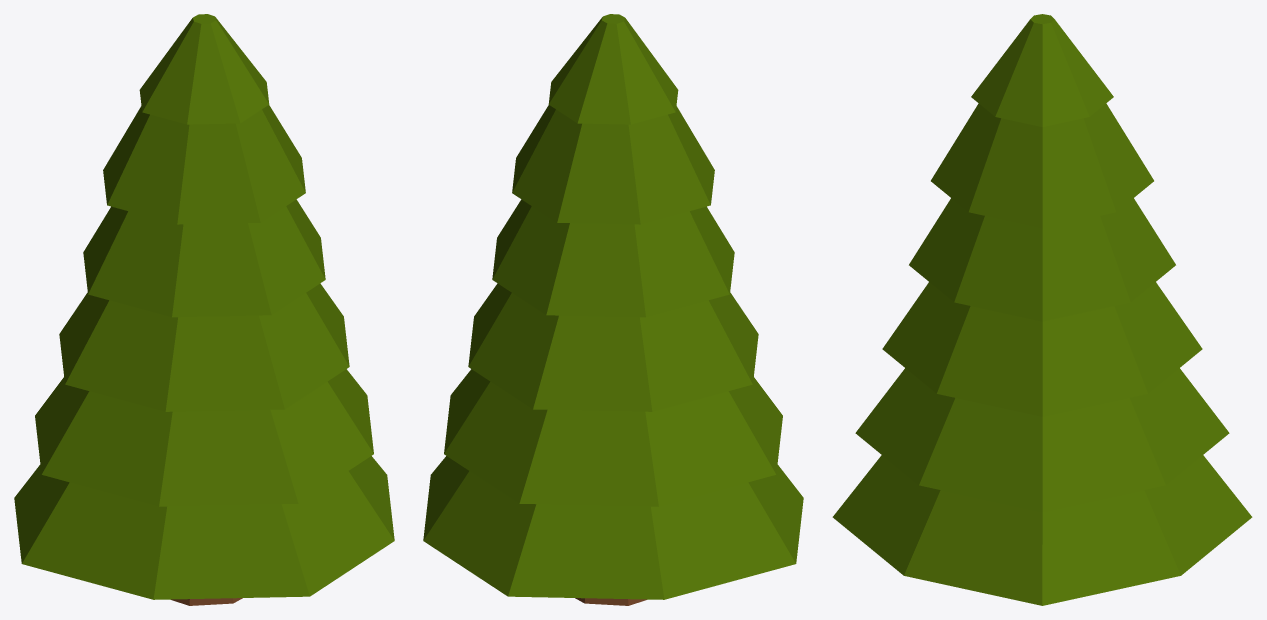
Rendered from Tree1, Mid2.fbx.
3 renders of one model, left to right at view 1: azimuth 30°, elevation 25°; view 2: azimuth 150°, elevation 25°; view 3: azimuth 270°, elevation 25°, orthographic.
Parts seen in each view (by area): view 1: Pine Tree; view 2: Pine Tree; view 3: Pine Tree.
Boxes of the visible parts, bbox=[...] form: Pine Tree: bbox=[14, 14, 394, 605]; Pine Tree: bbox=[423, 14, 803, 605]; Pine Tree: bbox=[832, 14, 1252, 605].
Size of the model in its own units: 288 by 424 by 288.
